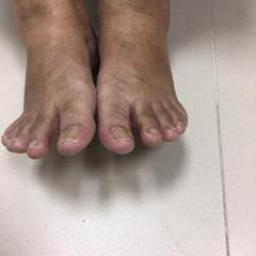Front View -Both Feet-: (1, 2, 202, 176)
